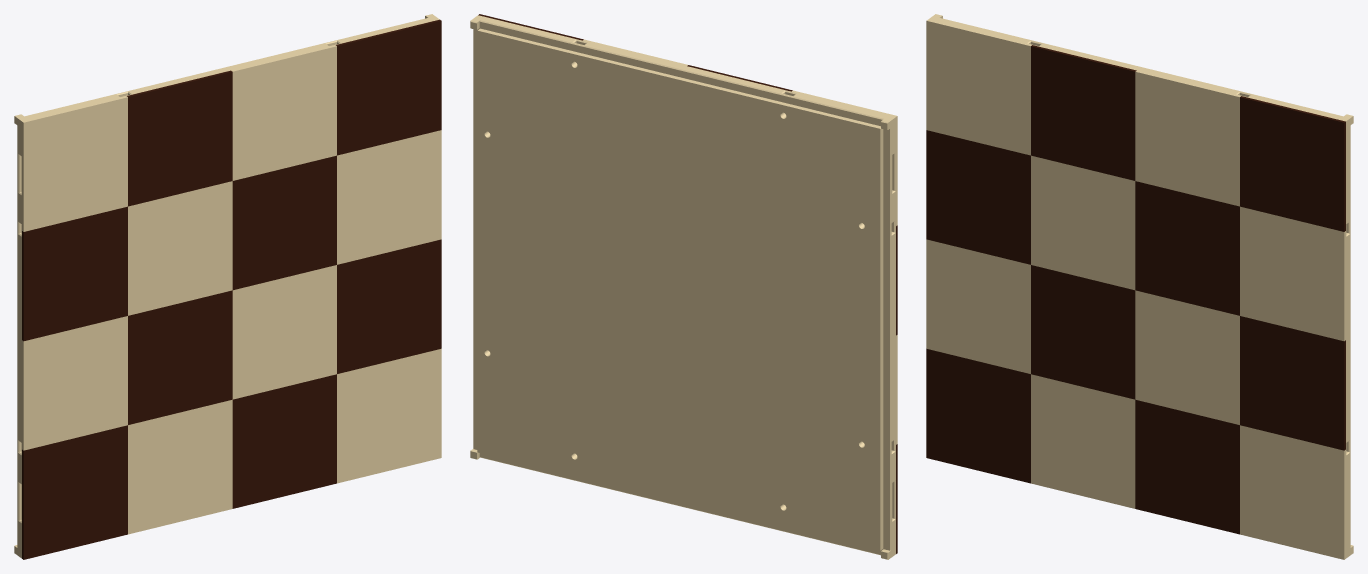
File: .quarter_ne.step.glb
The picture shows the model from 3 angles, left to right: view 1: azimuth 30°, elevation 25°; view 2: azimuth 150°, elevation 25°; view 3: azimuth 330°, elevation 25°; orthographic projection.
Parts seen in each view (by area): view 1: o1.1, o1.2.4, o1.2.8, o1.2.1, o1.2.2, o1.2.3, o1.2.5, o1.2.6, o1.2.7; view 2: o1.1; view 3: o1.1, o1.2.8, o1.2.4, o1.2.7, o1.2.3, o1.2.6, o1.2.1, o1.2.2, o1.2.5.
Boxes of the visible parts, x1,y1,x2,y2 form: o1.1: [14, 14, 441, 558]; o1.2.4: [127, 70, 232, 206]; o1.2.8: [336, 19, 441, 155]; o1.2.1: [22, 425, 127, 559]; o1.2.2: [22, 206, 127, 341]; o1.2.3: [128, 290, 232, 424]; o1.2.5: [232, 374, 336, 508]; o1.2.6: [232, 155, 336, 290]; o1.2.7: [337, 239, 441, 373]; o1.1: [470, 15, 897, 559]; o1.1: [926, 14, 1353, 559]; o1.2.8: [1240, 96, 1345, 231]; o1.2.4: [1031, 45, 1136, 180]; o1.2.7: [1240, 316, 1345, 450]; o1.2.3: [1031, 265, 1135, 399]; o1.2.6: [1135, 181, 1239, 315]; o1.2.1: [926, 348, 1030, 483]; o1.2.2: [926, 130, 1030, 264]; o1.2.5: [1135, 399, 1239, 534].
Bounding box in the file's own units: 0.24 × 0.24 × 0.0096.
